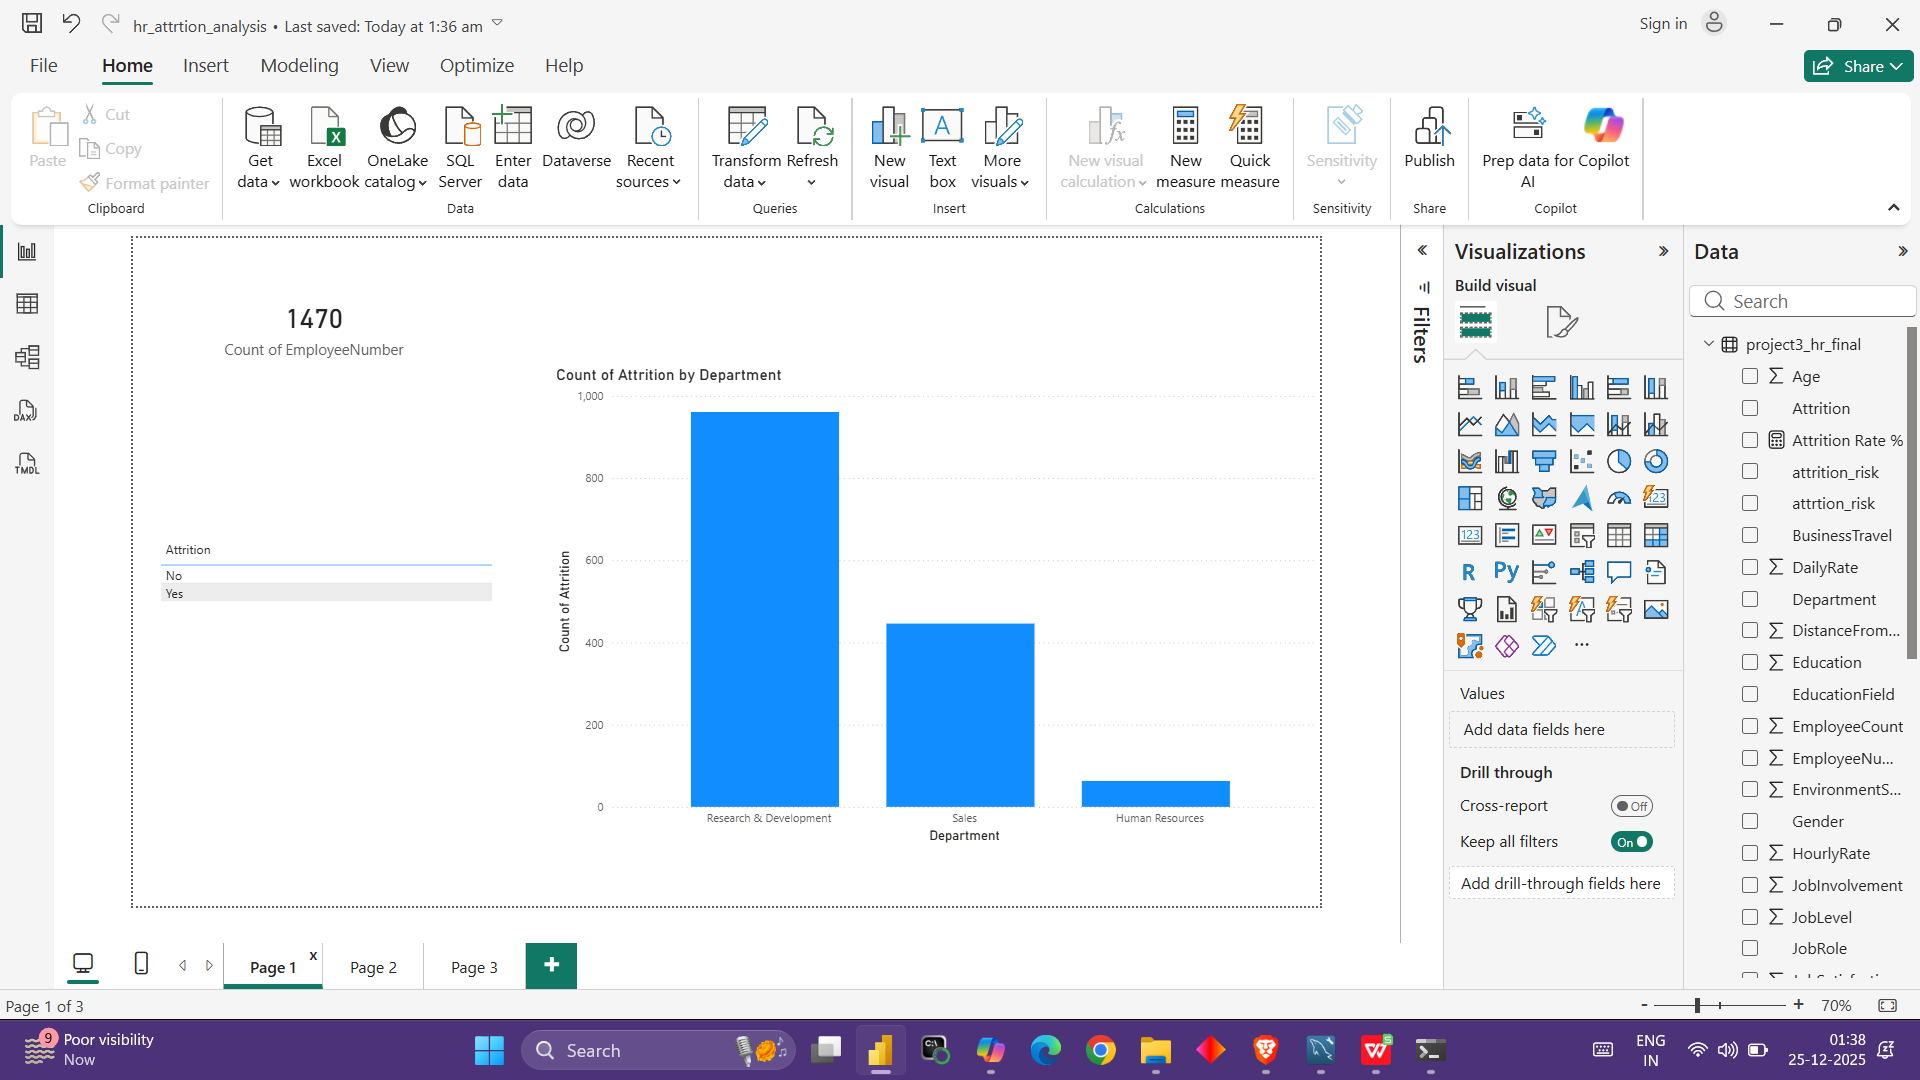

The dashboard page shown, as its layout file describes it:
{"tool":"powerbi","page":{"name":"Page 1","canvas":[1280,720],"ordinal":0},"visuals":[{"type":"card","fields":{"Values":["CountNonNull(project3_hr_final.EmployeeNumber)"]},"box":[0,0,389.6,190.3],"z":0},{"type":"tableEx","fields":{"Values":["project3_hr_final.Attrition"]},"box":[24.2,320.2,377.5,190.3],"z":1000},{"type":"clusteredColumnChart","fields":{"Category":["project3_hr_final.Department"],"Y":["CountNonNull(project3_hr_final.Attrition)"]},"box":[451.5,137.4,829.1,519.5],"z":2000}]}

Visuals, with their boxes on the page's 1280x720 design canvas (x1, y1, x2, y2). These are canvas units, not pixel positions in the 1920x1080 screenshot, which may show the page scaled, cropped or inside an application window:
card - CountNonNull(project3_hr_final.EmployeeNumber): pyautogui.locateOnScreen(0, 0, 390, 190)
tableEx - project3_hr_final.Attrition: pyautogui.locateOnScreen(24, 320, 402, 510)
clusteredColumnChart - project3_hr_final.Department x CountNonNull(project3_hr_final.Attrition): pyautogui.locateOnScreen(452, 137, 1281, 657)
